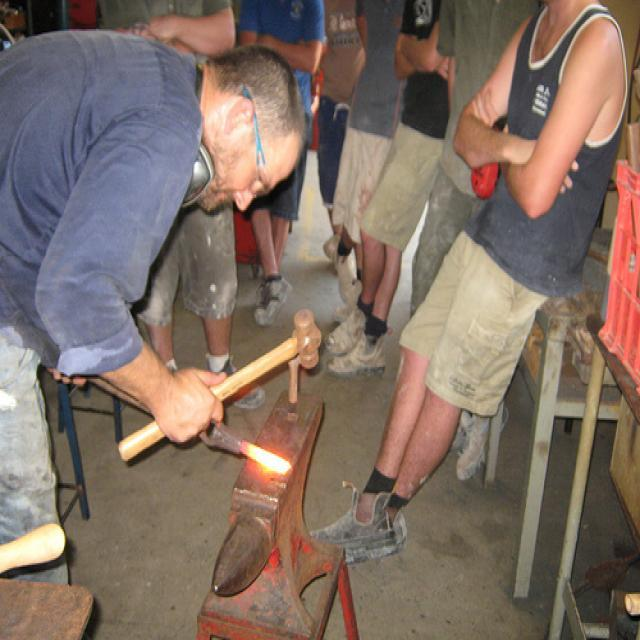hammer: (104, 304, 328, 482)
